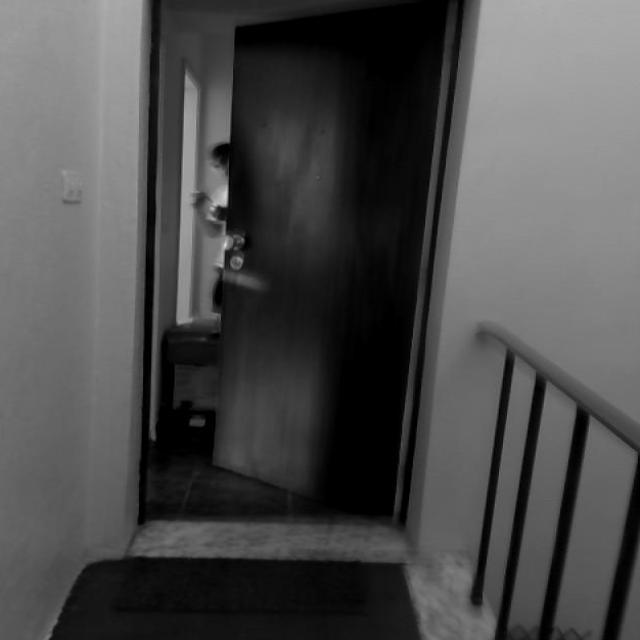door: (209, 1, 458, 521)
